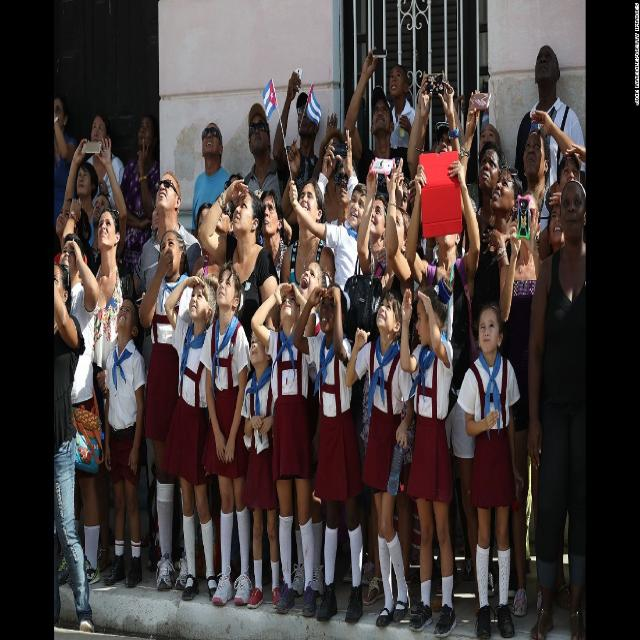body: (527, 178, 589, 640), (356, 151, 418, 612), (290, 280, 366, 627), (343, 285, 415, 632), (249, 277, 319, 619), (396, 272, 459, 639), (454, 301, 522, 639), (137, 227, 195, 592), (498, 190, 545, 624), (198, 257, 255, 610), (162, 272, 219, 603), (404, 159, 481, 391), (457, 84, 525, 339), (198, 175, 280, 384), (58, 230, 104, 586), (54, 260, 96, 635), (90, 205, 136, 544), (288, 258, 333, 598), (136, 170, 204, 376), (102, 296, 147, 589), (239, 325, 282, 610), (512, 42, 586, 195), (287, 179, 387, 292), (343, 46, 411, 204), (521, 108, 583, 235), (280, 180, 336, 314), (272, 66, 322, 212), (118, 114, 160, 277), (405, 70, 462, 183), (458, 119, 508, 247), (454, 136, 507, 256), (190, 120, 232, 237), (83, 105, 127, 213), (242, 102, 282, 204), (188, 169, 245, 240), (53, 194, 99, 277), (54, 92, 78, 237), (256, 187, 290, 289), (314, 112, 346, 205), (388, 63, 417, 150), (542, 185, 568, 260), (554, 142, 586, 192), (147, 186, 163, 241)
